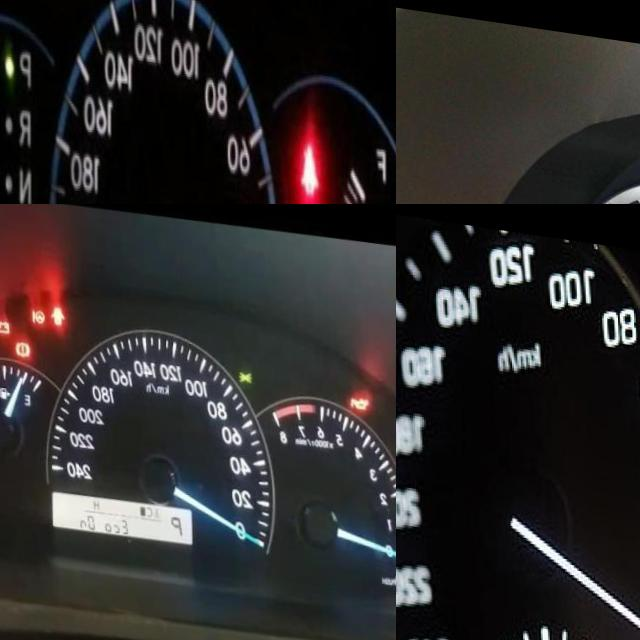Electronic Power Steering: (30, 303, 45, 320)
Seat Belt: (300, 130, 319, 188)
